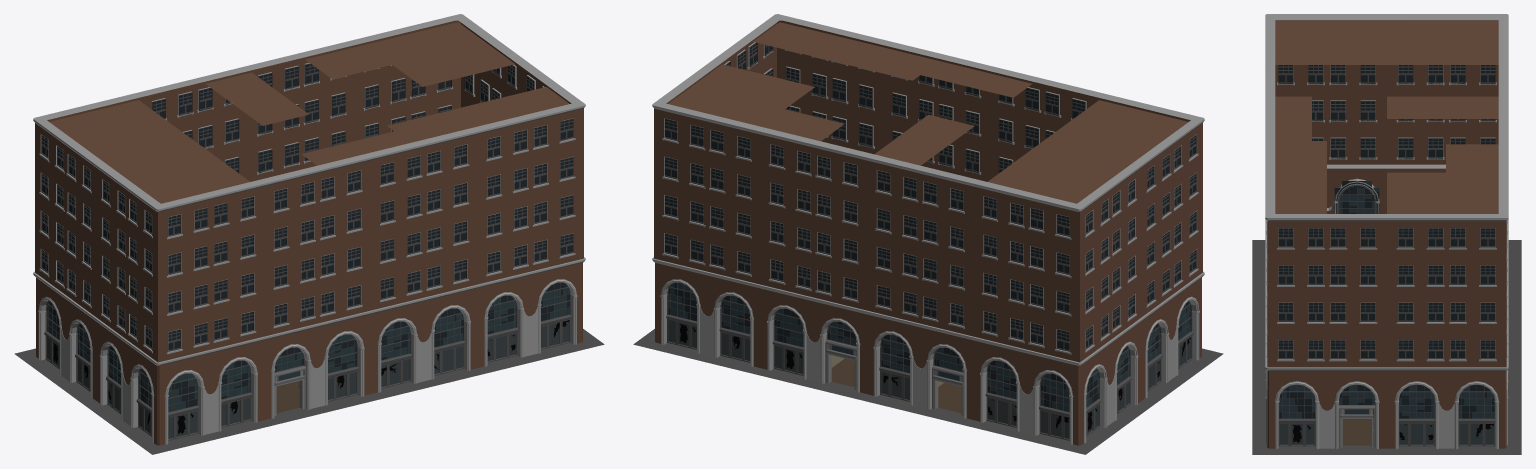
The model's file is hotel1.fbx.
The picture shows the model from 3 angles, left to right: view 1: azimuth 30°, elevation 25°; view 2: azimuth 150°, elevation 25°; view 3: azimuth 270°, elevation 25°; orthographic projection. The views are drawn at different scales.
Visible parts, largest first — view 1: Hotel, Floor; view 2: Hotel, Floor; view 3: Hotel, Floor.
Part boxes in pixels (left/top/right/bottom): Hotel: left=33, top=14, right=585, bottom=445; Floor: left=14, top=329, right=604, bottom=454; Hotel: left=652, top=14, right=1204, bottom=445; Floor: left=633, top=329, right=1223, bottom=454; Hotel: left=1265, top=14, right=1508, bottom=449; Floor: left=1252, top=240, right=1521, bottom=454.
Size of the model in its own units: 6800 by 3462 by 3600.
